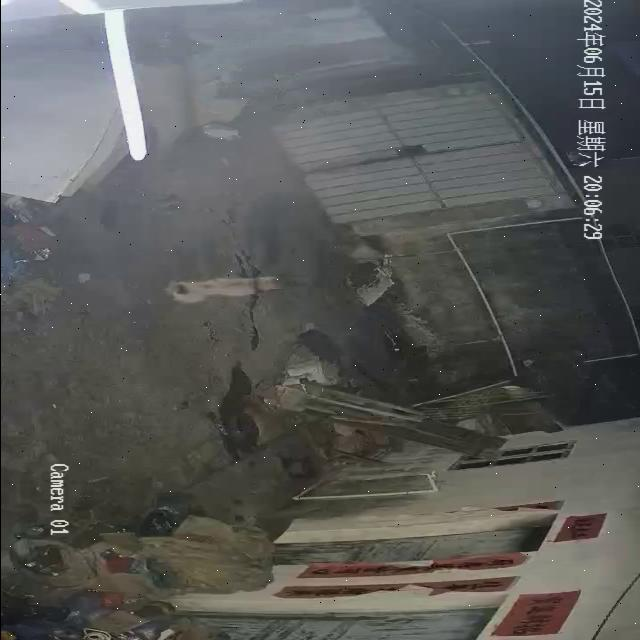dog: (159, 275, 287, 305)
